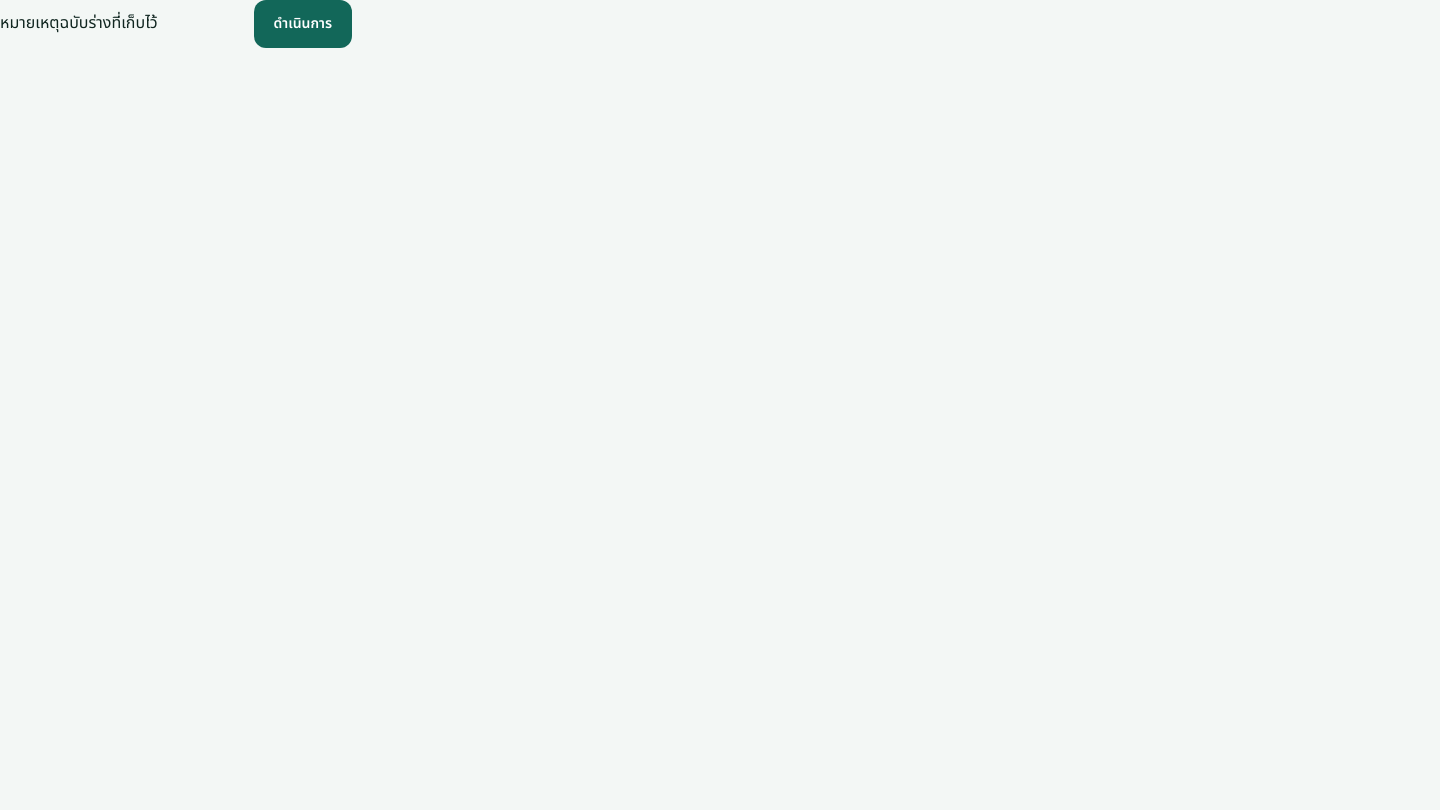
ConfirmableActionForm › keeps an uncertain outcome visible and blocks a retry
Submit the form with test id "submit-action", box 0,0 -> 352,48
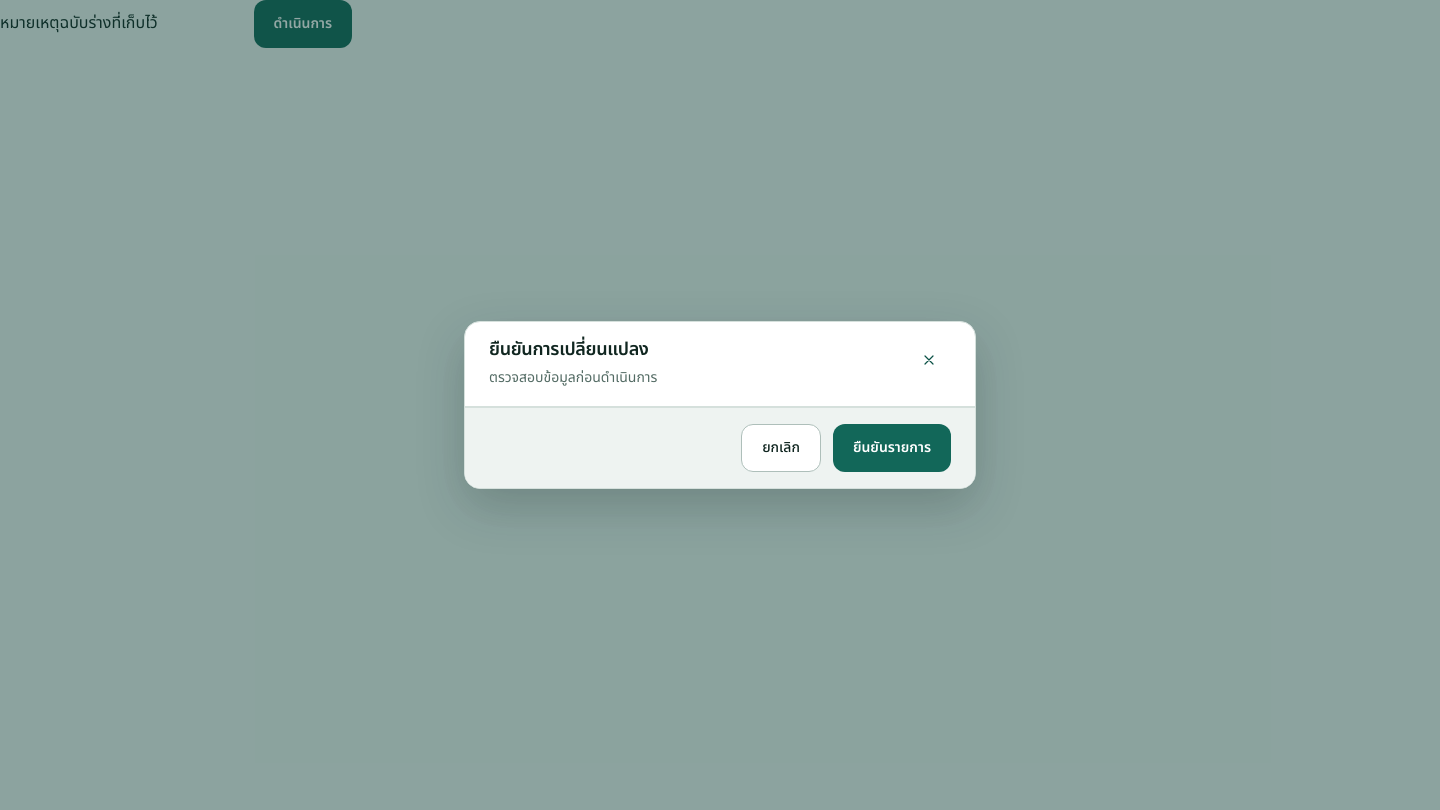
Click the button "ยืนยันรายการ" at (892, 448), box 833,424 -> 951,472
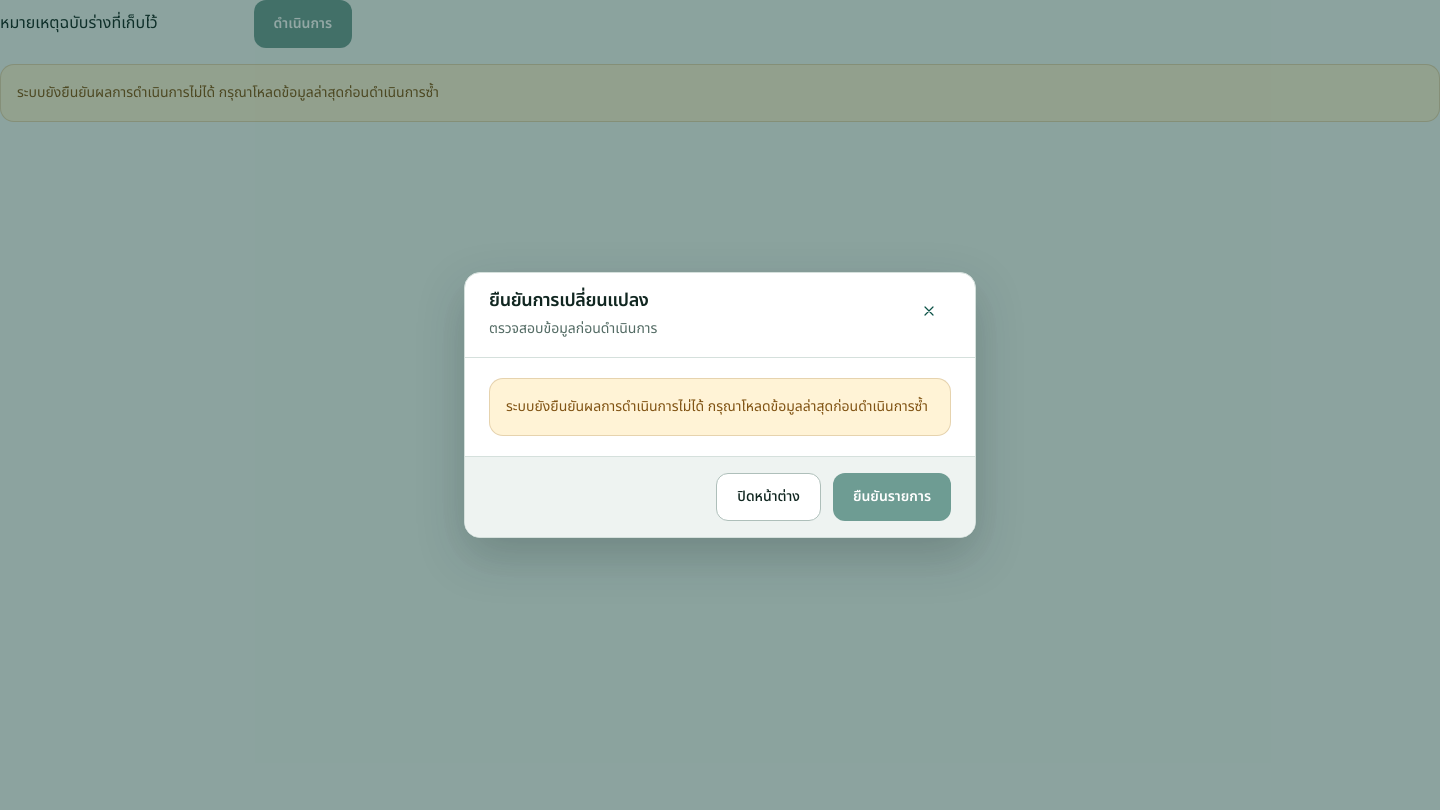
Now the dialog is shown, box 464,272 -> 976,538
Now the button "ยืนยันรายการ" is disabled, box 833,473 -> 951,521
Now the 1st message "ระบบยังยืนยันผลการดำเนินการไม่ได้ กรุณาโหลดข้อมูลล่าสุดก่อนดำเนินการซ้ำ" is shown, box 0,64 -> 1439,122
